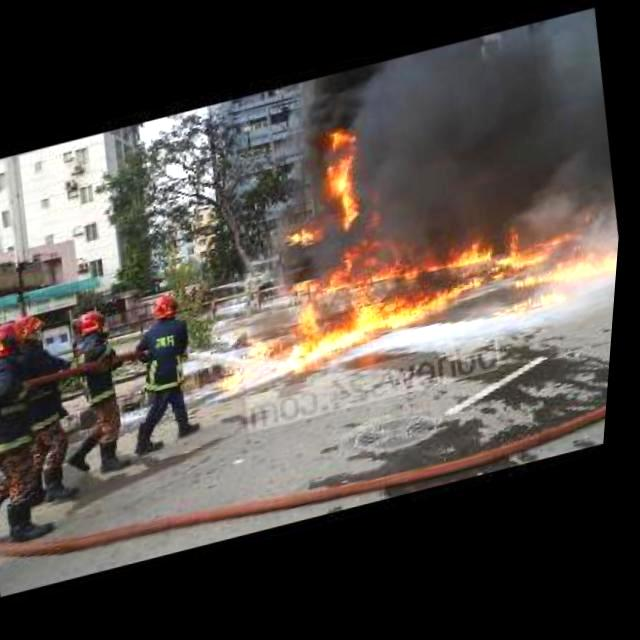fire: (203, 208, 625, 400), (333, 17, 627, 271), (318, 125, 374, 235)
